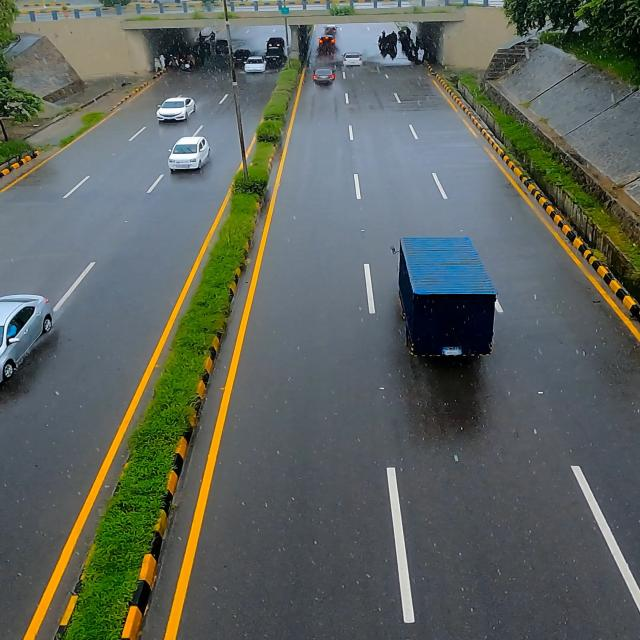Car: (388, 234, 496, 362), (0, 290, 55, 387), (163, 134, 210, 178), (150, 90, 196, 128)
